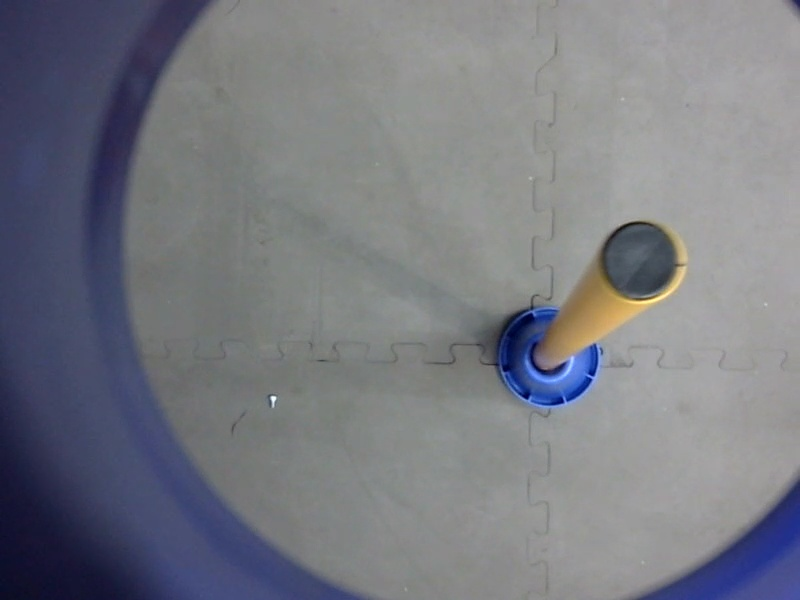tip: (587, 214, 694, 311)
